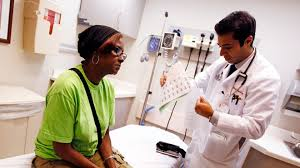Bad: (31, 11, 283, 138)
